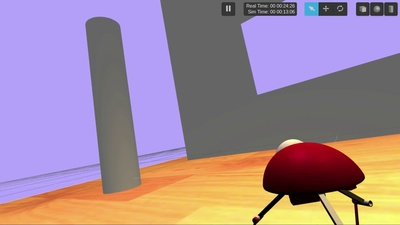mira_robot: (276, 138, 304, 153)
